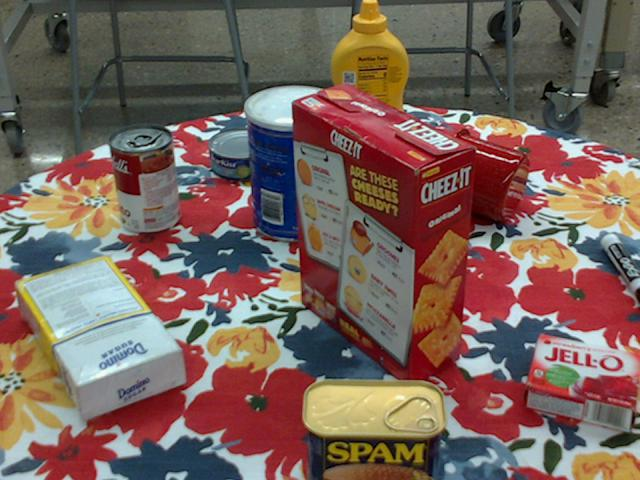cracker_box: (290, 86, 473, 389)
gelatin_box: (522, 333, 639, 429)
large_marker: (600, 231, 639, 302)
master_chef_can: (244, 85, 342, 242)
mug: (432, 128, 527, 220)
mustard_bottle: (329, 0, 407, 157)
potted_meat_can: (300, 380, 445, 479)
sugar_box: (17, 259, 184, 418)
tomato_soup_can: (109, 125, 179, 234)
tuna_fish_can: (209, 127, 279, 180)
